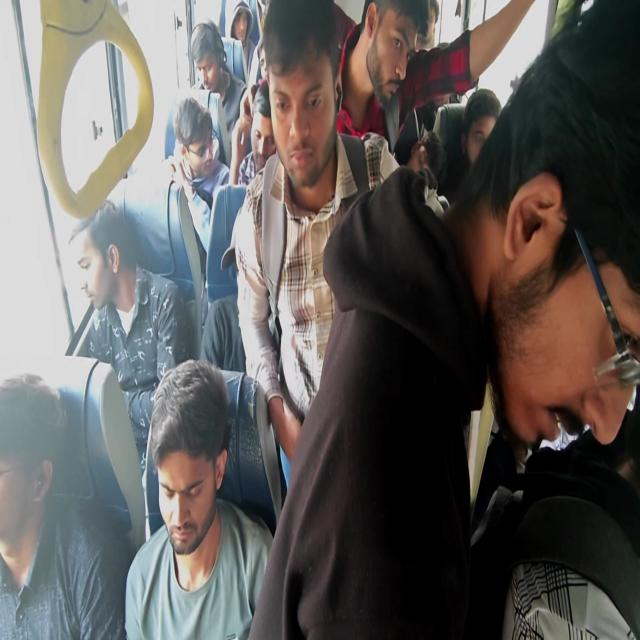person: (503, 132, 640, 487), (268, 60, 348, 254), (154, 381, 227, 589), (0, 386, 60, 588), (67, 231, 118, 330), (362, 0, 408, 84), (186, 102, 215, 203), (249, 106, 282, 181), (418, 137, 452, 188), (466, 93, 492, 153), (198, 36, 223, 98), (256, 50, 284, 90), (228, 0, 248, 47), (426, 0, 444, 45)
